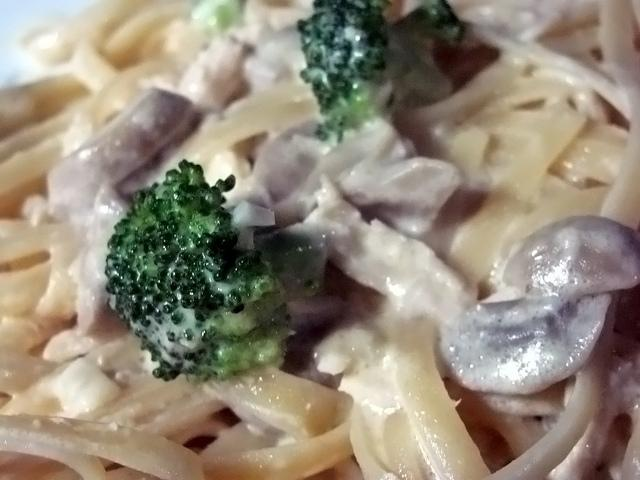broccoli: (104, 159, 330, 387), (296, 0, 465, 144)
mushroom: (442, 213, 640, 416), (268, 122, 468, 241), (49, 88, 195, 214), (176, 32, 252, 114), (252, 119, 321, 204)
